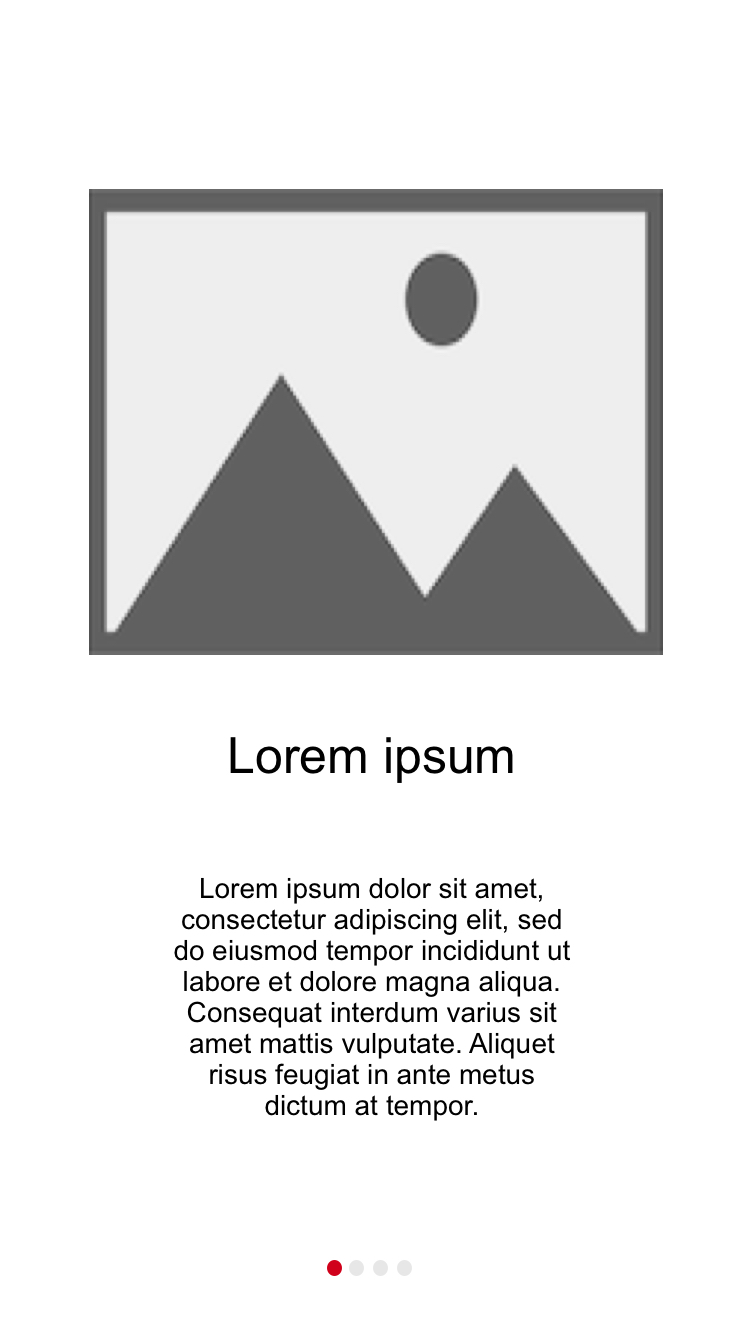Image: (88, 188, 664, 657)
PageIndicator: (326, 1259, 414, 1278)
Text: (173, 877, 571, 1122), (229, 735, 514, 784)
